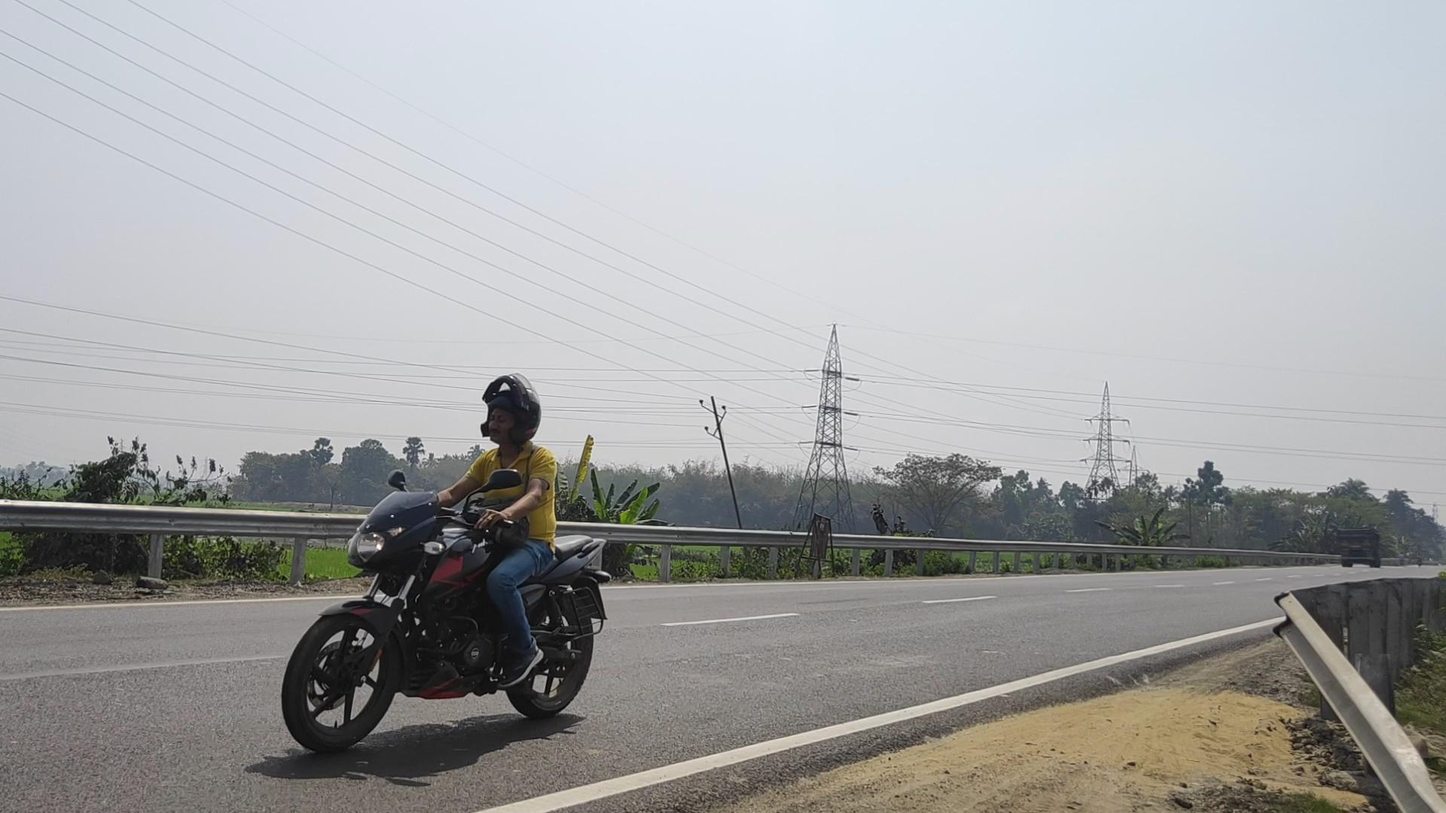bike: (282, 371, 611, 754)
truck: (1338, 528, 1382, 568)
